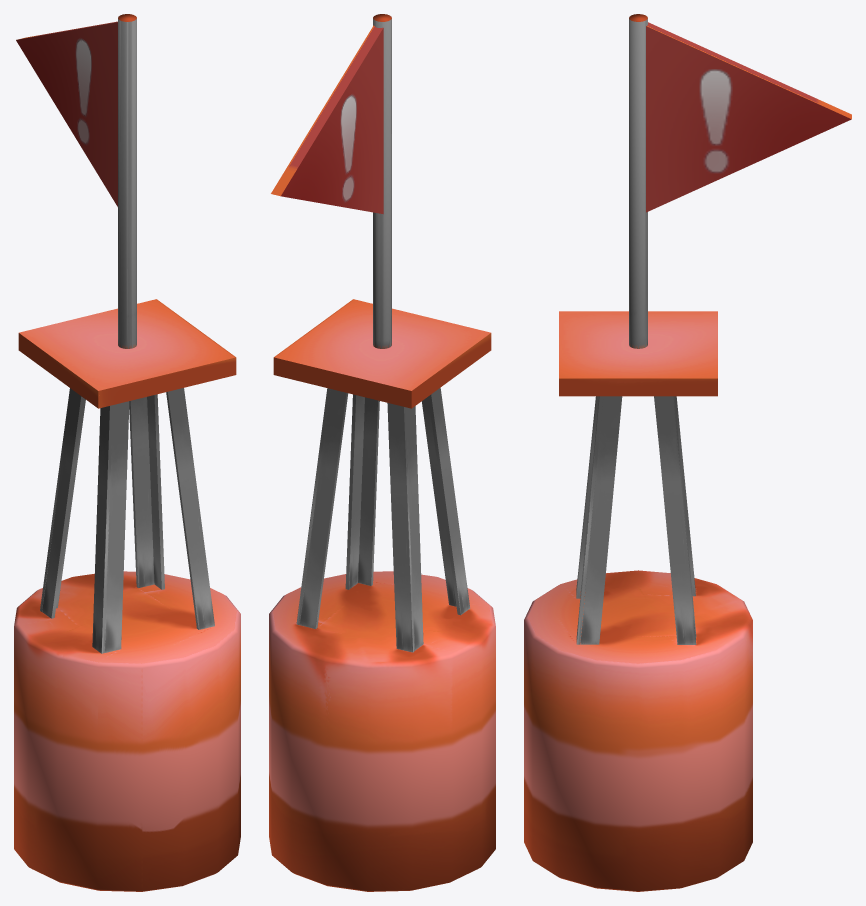
The model's file is buoy01-1-ani.fbx.
3 renders of one model, left to right at view 1: azimuth 30°, elevation 25°; view 2: azimuth 150°, elevation 25°; view 3: azimuth 270°, elevation 25°, orthographic.
Parts seen in each view (by area): view 1: Cylinder; view 2: Cylinder; view 3: Cylinder.
Part boxes in pixels (box(x1,y1,x2,y2)): Cylinder: box(14, 14, 240, 891); Cylinder: box(269, 14, 495, 891); Cylinder: box(524, 14, 851, 891).
Bounding box in the file's own units: 108 × 431 × 155.
1 material, 1 textured.
